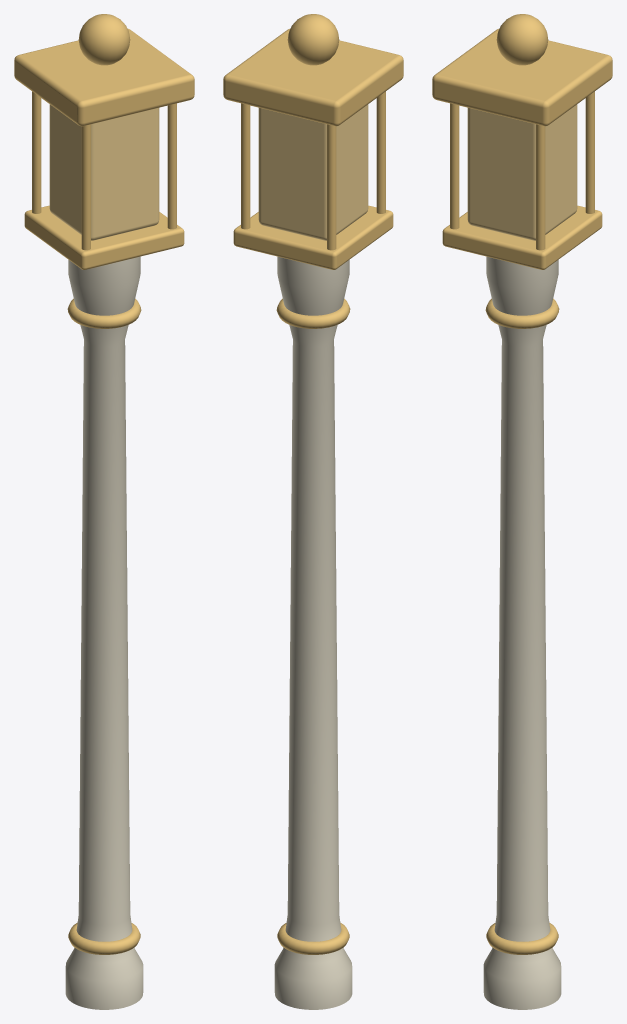
The model's file is royal-court-and-throne-palace-palace-lantern-post-6a52be2f__29419.glb.
3 renders of one model, left to right at view 1: azimuth 30°, elevation 25°; view 2: azimuth 150°, elevation 25°; view 3: azimuth 330°, elevation 25°, orthographic.
Visible parts, largest first — view 1: palace-lantern-post; view 2: palace-lantern-post; view 3: palace-lantern-post.
Boxes of the visible parts, bbox=[...] form: palace-lantern-post: bbox=[14, 14, 194, 1009]; palace-lantern-post: bbox=[223, 14, 403, 1009]; palace-lantern-post: bbox=[432, 14, 612, 1009].
Bounding box in the file's own units: 0.3399 × 2.71 × 0.3399.
